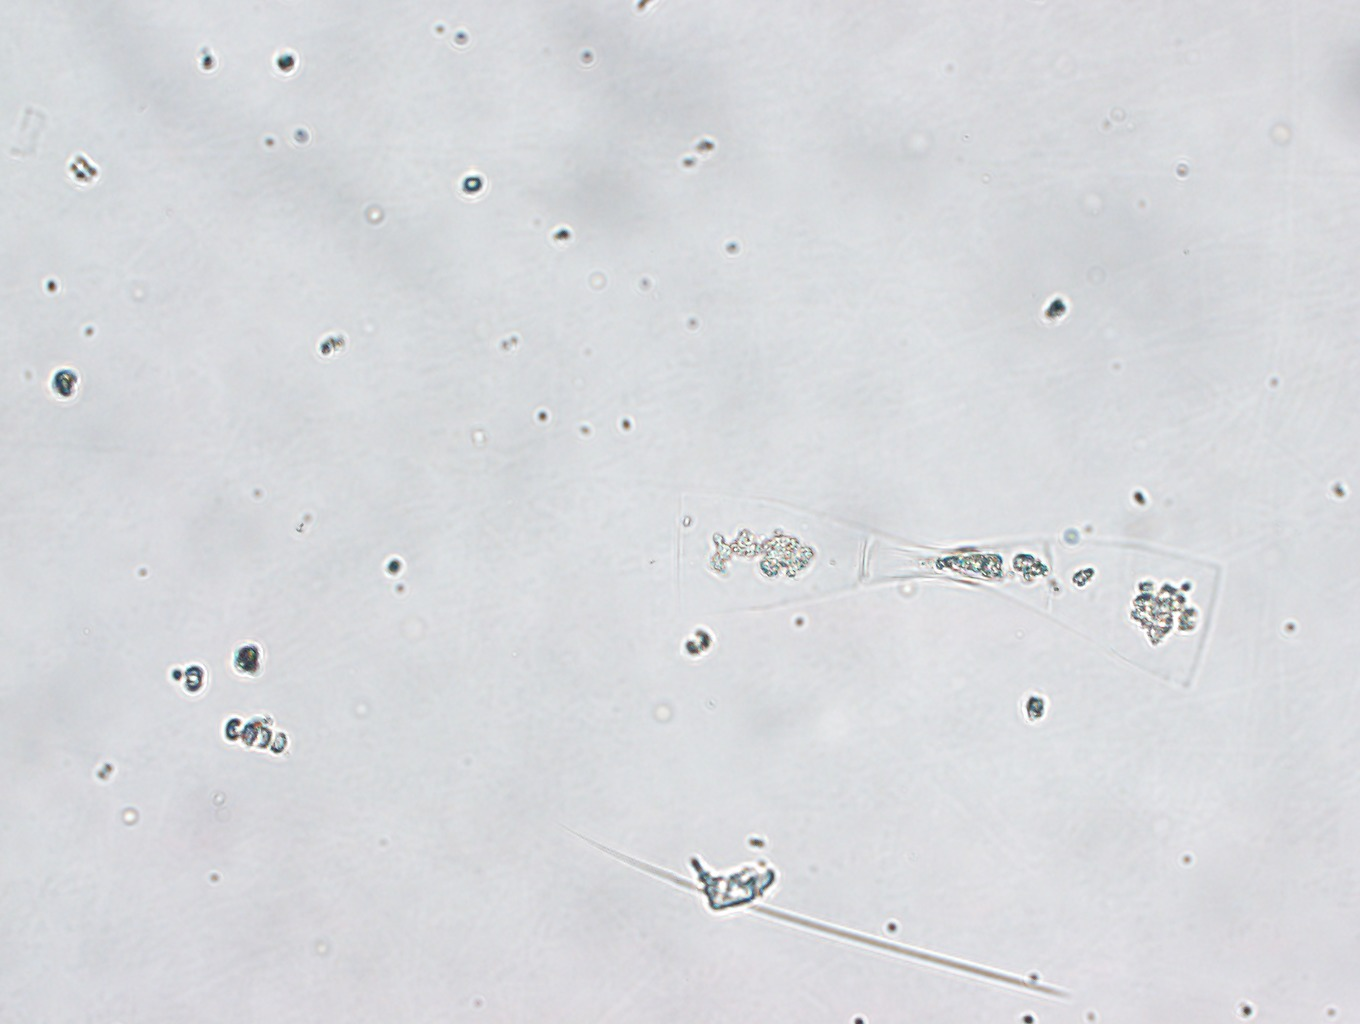helicotheca: (658, 464, 1229, 712)
